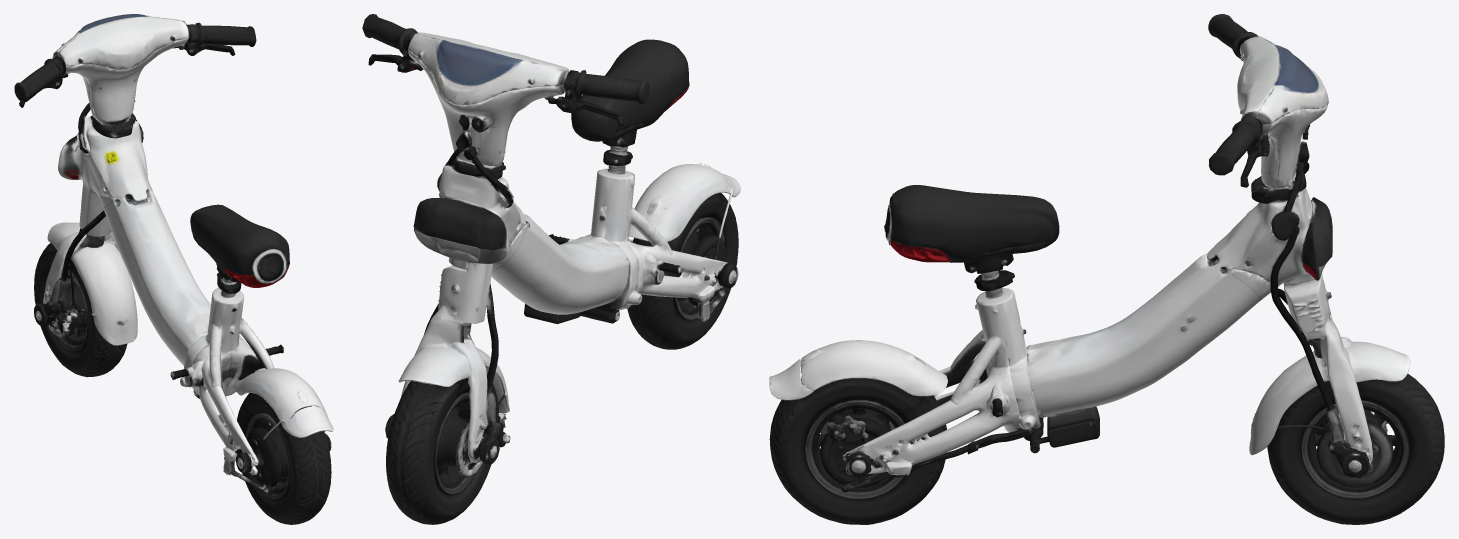
File: scooter.glb
The picture shows the model from 3 angles, left to right: view 1: azimuth 30°, elevation 25°; view 2: azimuth 150°, elevation 25°; view 3: azimuth 270°, elevation 25°; orthographic projection. The views are drawn at different scales.
Visible parts, largest first — view 1: tripo_node_d71e9301-3767-4943-9c01-18e0d4ac6a30; view 2: tripo_node_d71e9301-3767-4943-9c01-18e0d4ac6a30; view 3: tripo_node_d71e9301-3767-4943-9c01-18e0d4ac6a30.
Part boxes in pixels (left/top/right/bottom): tripo_node_d71e9301-3767-4943-9c01-18e0d4ac6a30: left=14, top=14, right=333, bottom=524; tripo_node_d71e9301-3767-4943-9c01-18e0d4ac6a30: left=362, top=14, right=740, bottom=524; tripo_node_d71e9301-3767-4943-9c01-18e0d4ac6a30: left=769, top=14, right=1444, bottom=524.
Size of the model in its own units: 0.4859 by 0.7361 by 0.9796.
1 material, 1 textured.
